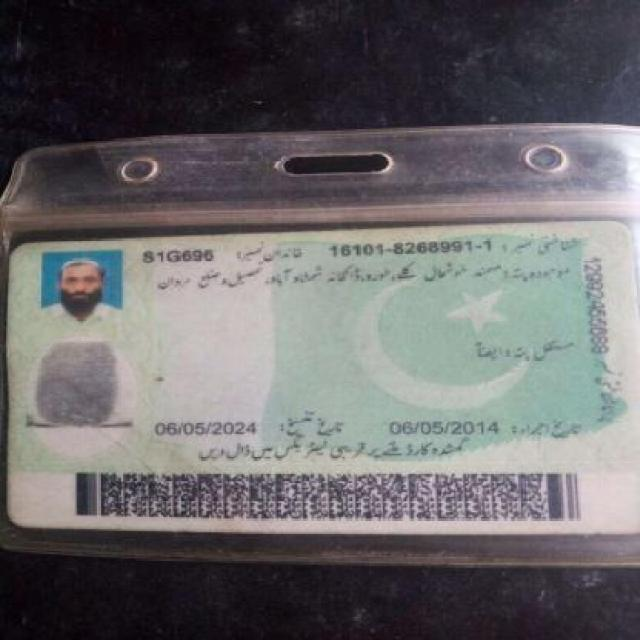Back: (4, 223, 630, 557)
